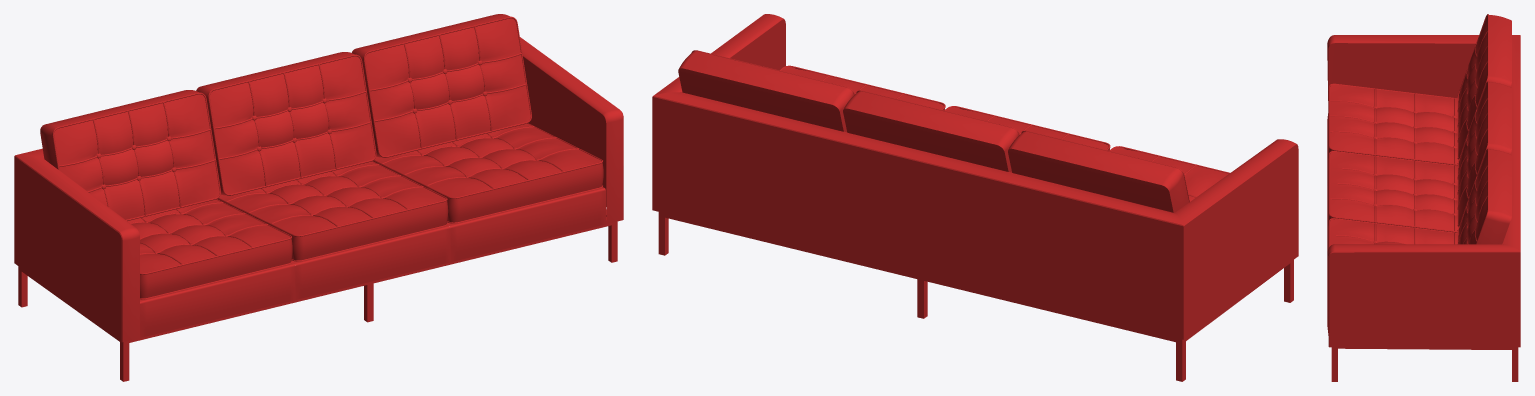
File: knoll_sofa_a_01.FBX
3 renders of one model, left to right at view 1: azimuth 30°, elevation 25°; view 2: azimuth 150°, elevation 25°; view 3: azimuth 270°, elevation 25°, orthographic. The views are drawn at different scales.
Parts seen in each view (by area): view 1: knoll_sofa_a_01; view 2: knoll_sofa_a_01; view 3: knoll_sofa_a_01.
Part boxes in pixels (<box>): knoll_sofa_a_01: <box>14,14,623,381</box>; knoll_sofa_a_01: <box>652,14,1298,381</box>; knoll_sofa_a_01: <box>1327,14,1520,381</box>.
Bounding box in the file's own units: 2.13 × 0.7506 × 0.8046.
